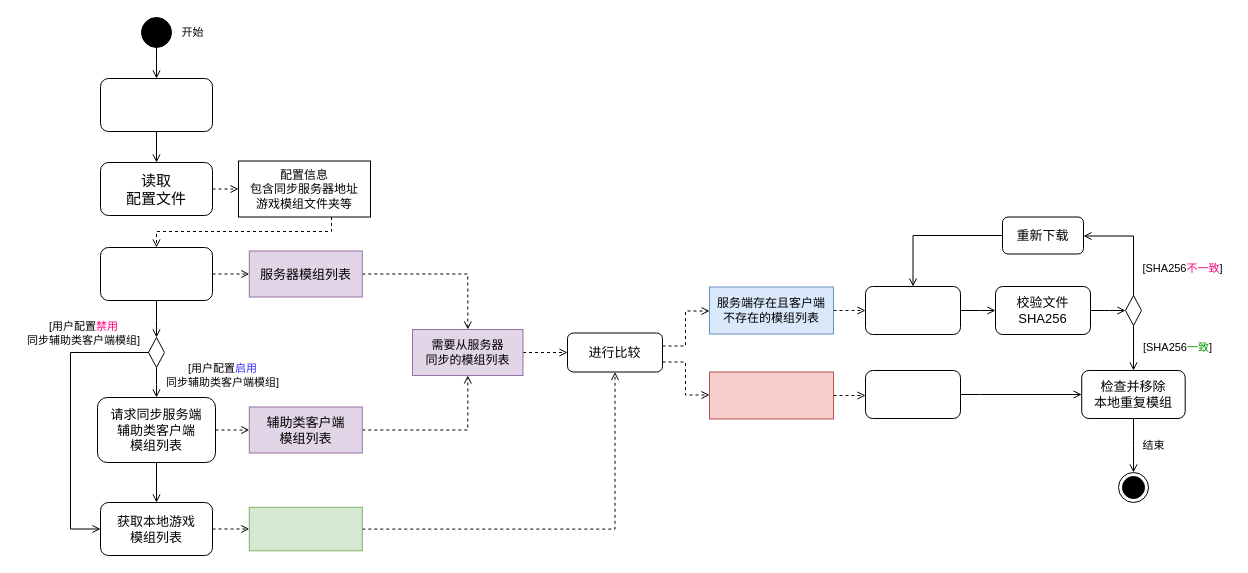
Some shapes in this 1248 by 573 pixel diagram are drawn without their labels. The centre of each missing label's shape, as x and y in pixels:
"下载到 本地游戏" belongs at (912,310).
"从本地游戏 移除" belongs at (912,394).
"同步客户端 启动" belongs at (156,105).
"服务端不存在且客户端存在的模组列表" belongs at (771,395).
"本地游戏模组 列表" belongs at (305,528).
"请求同步服务端 获取模组列表" belongs at (156,273).
